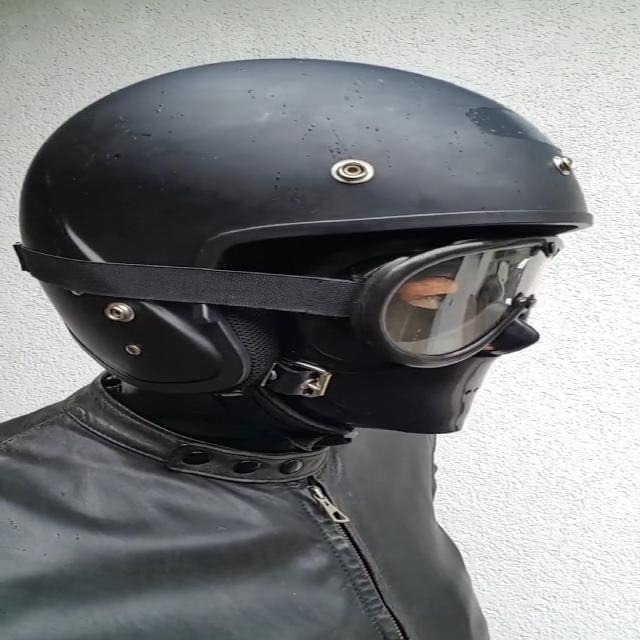Helmet_Wearer: (0, 58, 640, 438)
Jacket_Wearer: (0, 348, 563, 640)
Person: (0, 57, 604, 640)
